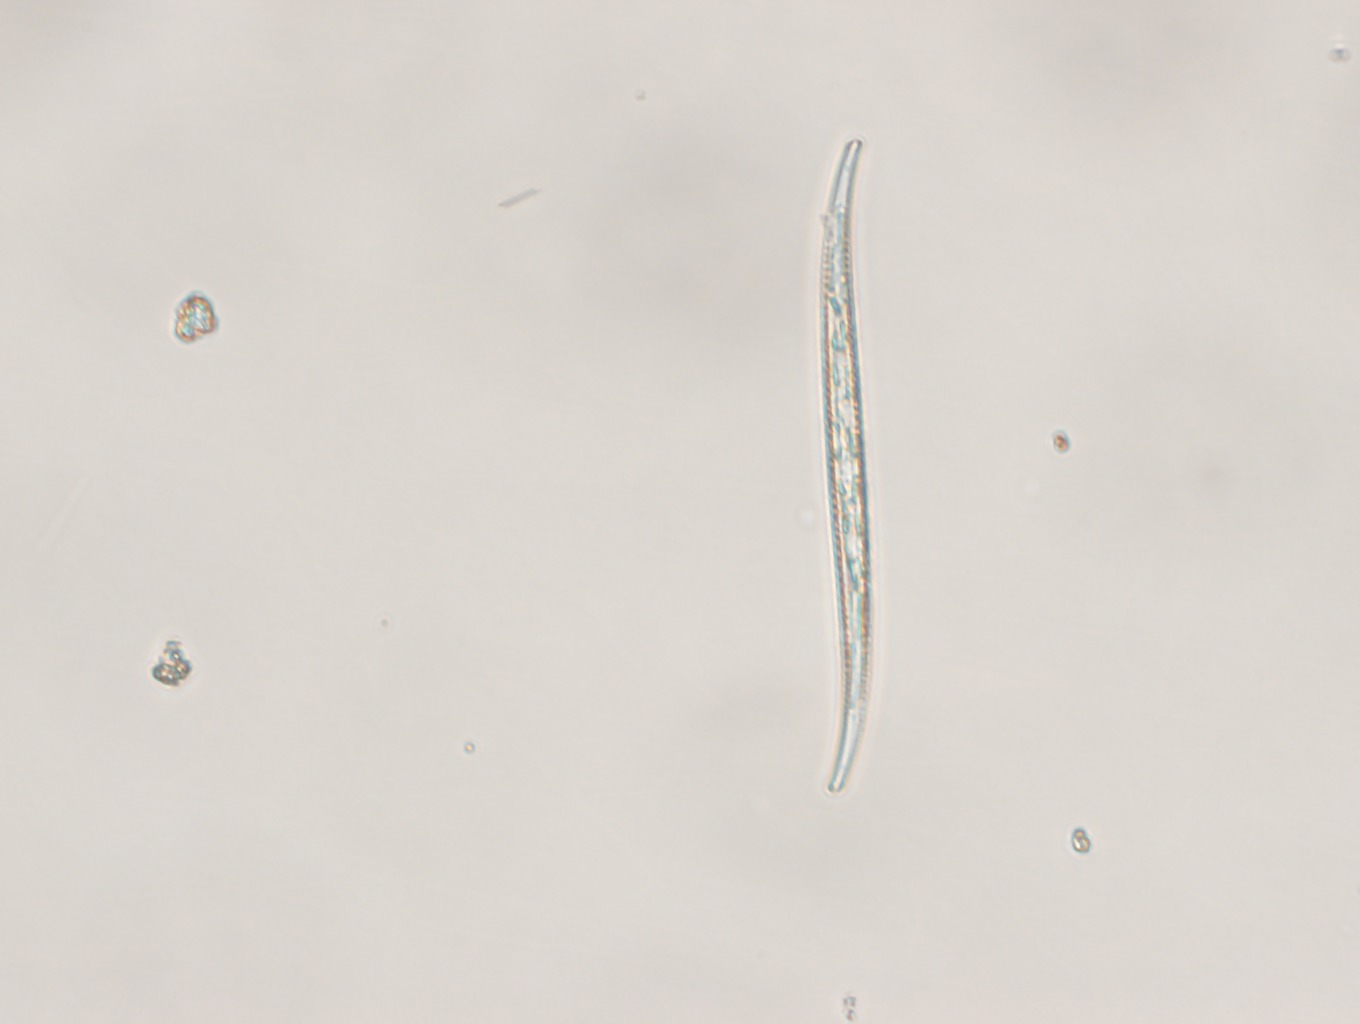pleurosigma pelagicum: (793, 136, 913, 800)
